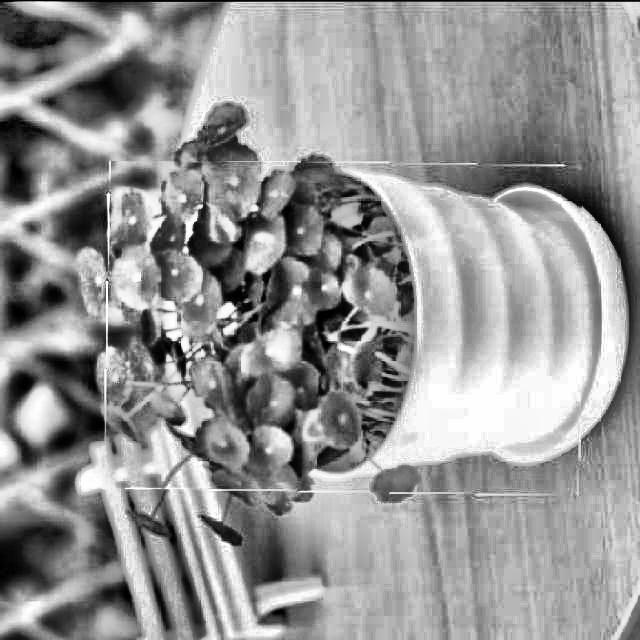plants: (106, 158, 583, 492)
